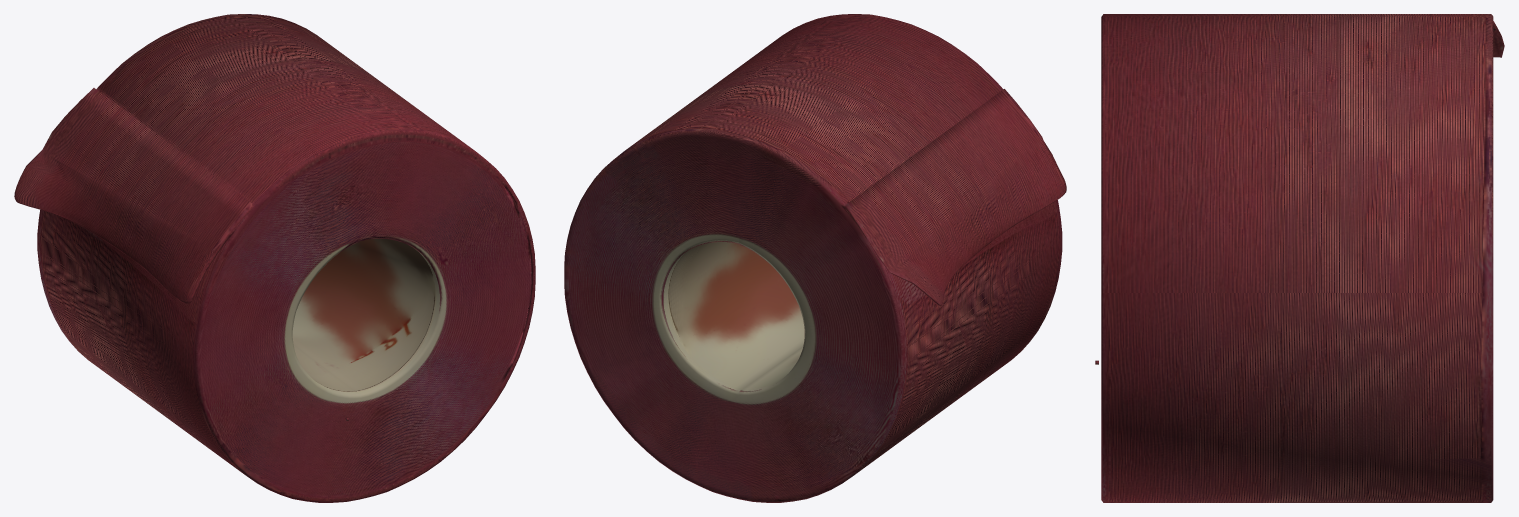
File: tape_roll.fbx
3 views of the same model, side by side, from view 1: azimuth 30°, elevation 25°; view 2: azimuth 150°, elevation 25°; view 3: azimuth 270°, elevation 25° (orthographic). The views are drawn at different scales.
Visible parts, largest first — view 1: mesh_rep_0_ori_repair_quad.001; view 2: mesh_rep_0_ori_repair_quad.001; view 3: mesh_rep_0_ori_repair_quad.001.
Part boxes in pixels (x1,y1,x2,y2): mesh_rep_0_ori_repair_quad.001: [14, 14, 535, 502]; mesh_rep_0_ori_repair_quad.001: [564, 14, 1066, 502]; mesh_rep_0_ori_repair_quad.001: [1095, 14, 1504, 502].
Size of the model in its own units: 5.32 by 5 by 4.18.
1 material, 1 textured.
